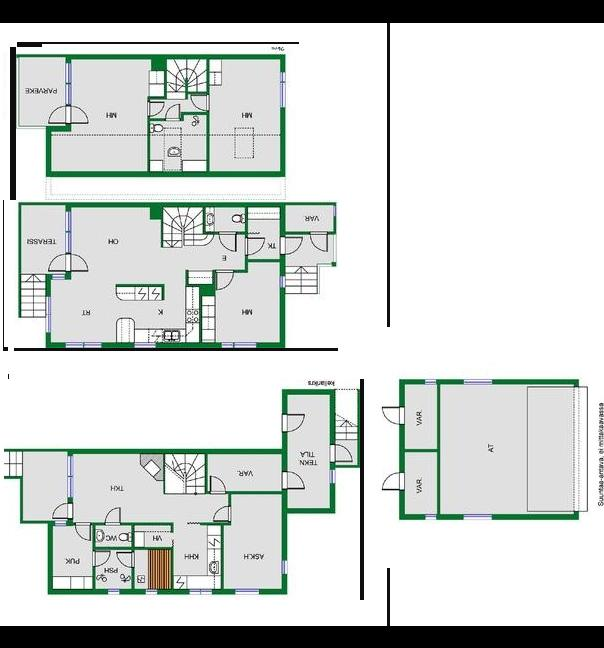bathroom: (148, 114, 206, 173), (204, 206, 244, 232), (94, 524, 132, 546)
door: (381, 402, 407, 426), (43, 102, 70, 124), (281, 410, 305, 434), (66, 248, 90, 272), (380, 469, 405, 492), (280, 232, 302, 256), (46, 250, 70, 272), (103, 504, 125, 527), (208, 472, 228, 497), (280, 472, 307, 490), (66, 103, 88, 125), (308, 231, 329, 253), (220, 228, 238, 253), (88, 548, 110, 568), (245, 233, 264, 256), (144, 98, 166, 117), (212, 503, 234, 522), (215, 269, 234, 291), (74, 518, 90, 543), (114, 550, 136, 568), (188, 94, 212, 110), (162, 102, 181, 122), (50, 503, 72, 520)
perimeter: (19, 390, 331, 594), (18, 202, 336, 350), (48, 56, 286, 175), (400, 378, 580, 520)
stairs: (166, 58, 207, 97), (164, 208, 205, 247), (164, 454, 204, 490), (23, 273, 47, 318), (334, 420, 360, 440), (4, 450, 19, 478)
window: (61, 57, 76, 106), (277, 66, 291, 110), (64, 451, 76, 501), (219, 339, 262, 351), (64, 338, 105, 350), (458, 375, 498, 387), (43, 294, 54, 336), (64, 206, 74, 251), (456, 512, 497, 522), (232, 584, 264, 596), (185, 585, 216, 597), (131, 339, 158, 350), (279, 554, 289, 578), (420, 376, 438, 386), (422, 512, 440, 522), (103, 586, 123, 595), (143, 586, 160, 596), (278, 272, 287, 290), (329, 467, 336, 486)
